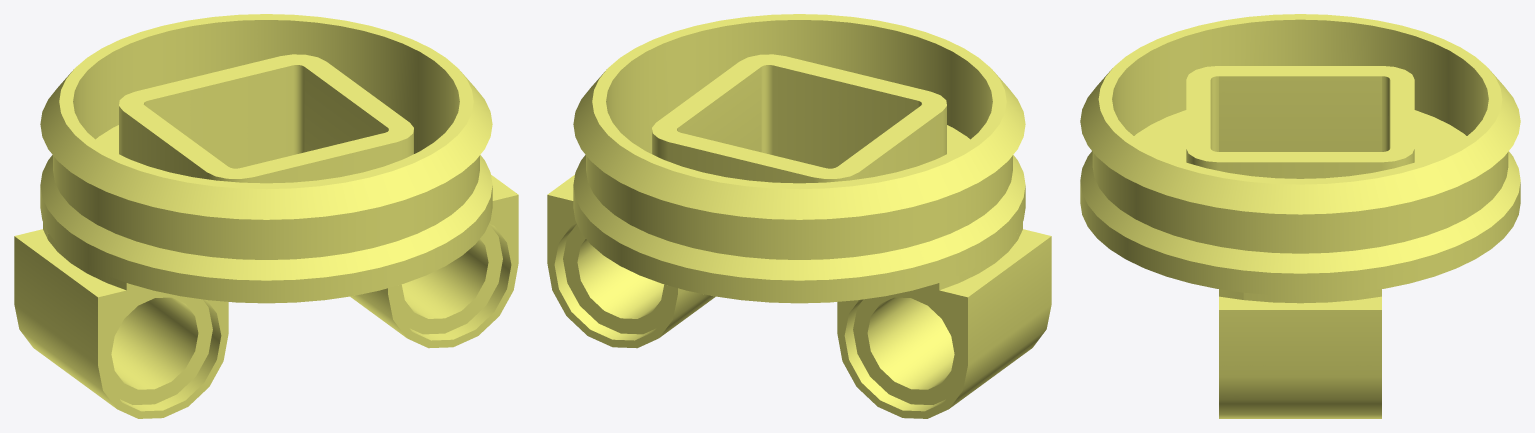
3 renders of one model, left to right at view 1: azimuth 30°, elevation 25°; view 2: azimuth 150°, elevation 25°; view 3: azimuth 270°, elevation 25°, orthographic. The views are drawn at different scales.
Visible parts, largest first — view 1: 99009.dat; view 2: 99009.dat; view 3: 99009.dat.
Boxes of the visible parts, left/top/right/bottom form: 99009.dat: left=14, top=14, right=518, bottom=418; 99009.dat: left=547, top=14, right=1051, bottom=418; 99009.dat: left=1080, top=14, right=1520, bottom=418.
Size of the model in its own units: 0.0232 by 0.0132 by 0.0216.
